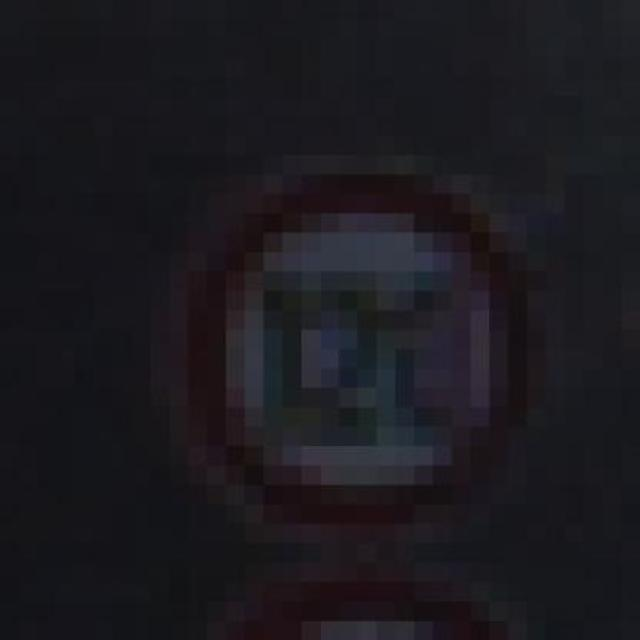forb_speed_over_120: (186, 167, 531, 535)
